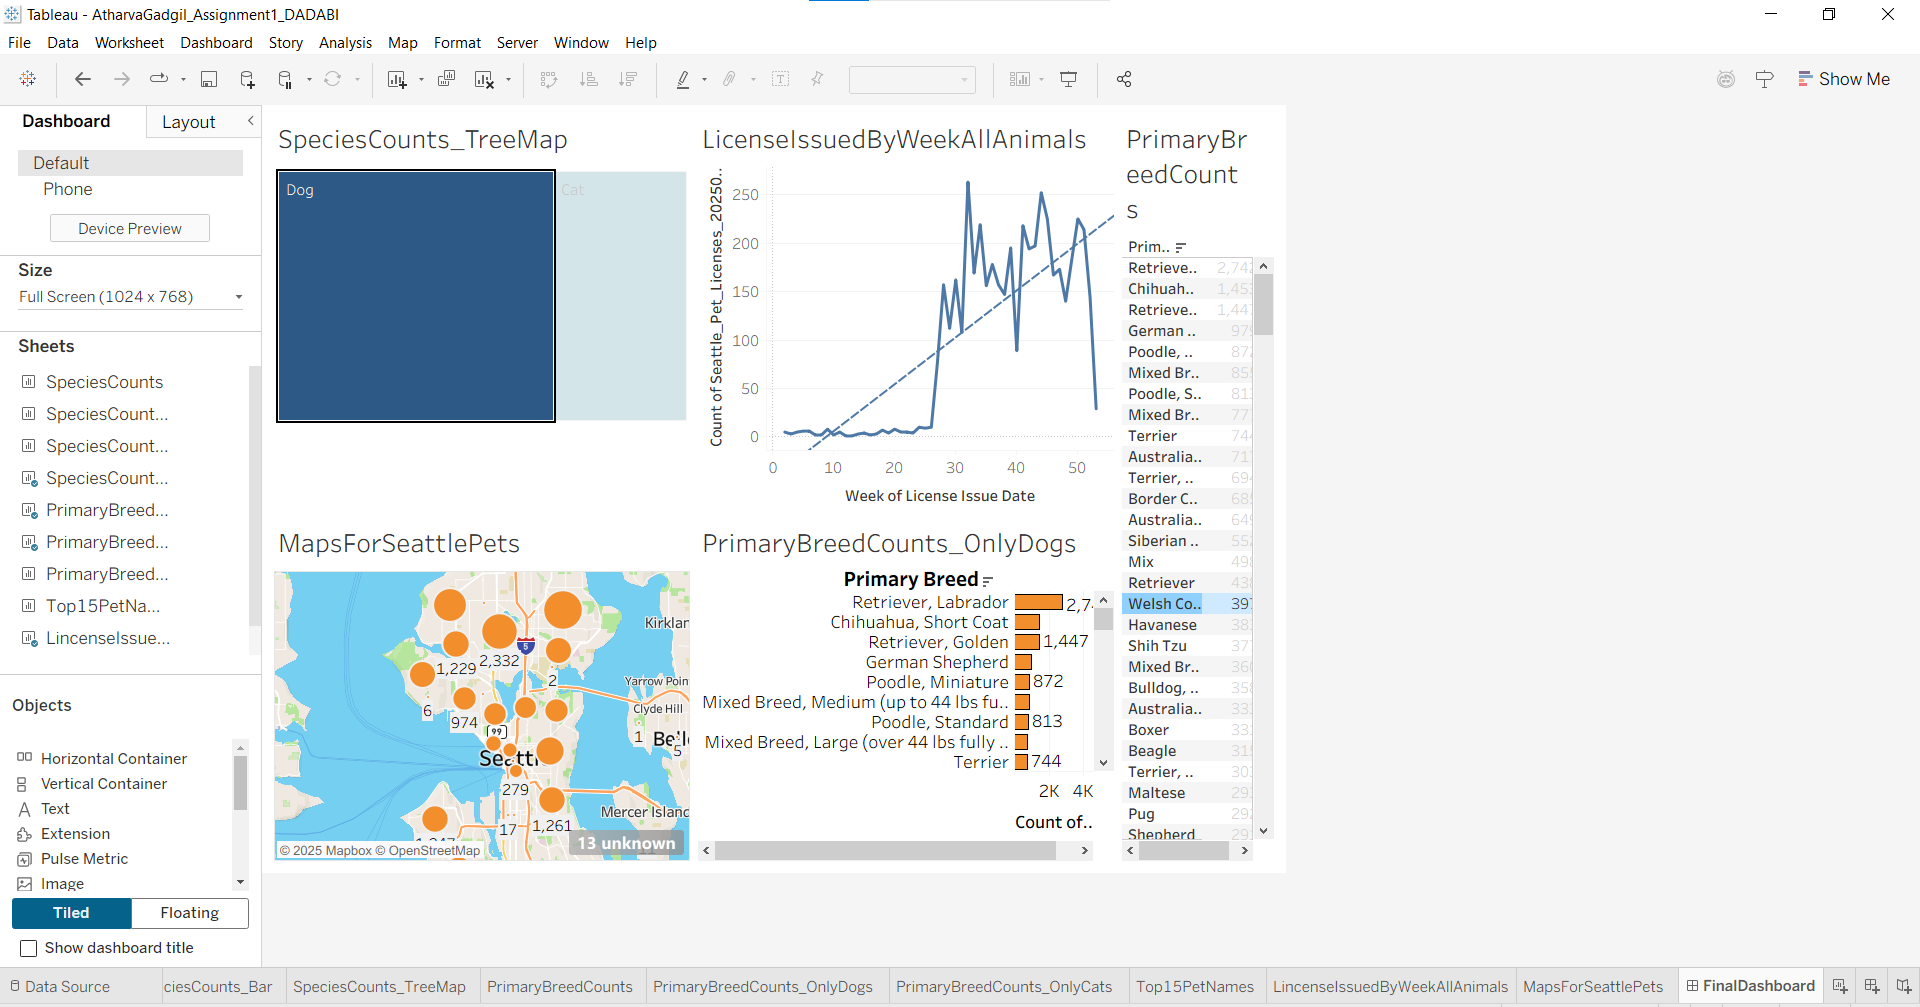

The dashboard page shown, as its layout file describes it:
{"tool":"tableau","page":{"name":"FinalDashboard","canvas":[1024,768],"ordinal":0},"visuals":[{"type":"worksheet","title":"SpeciesCounts_TreeMap","mark":"Automatic","box":[8,8,424,404.3]},{"type":"worksheet","title":"LincenseIssuedByWeekAllAnimals","mark":"Automatic","rows":["Seattle_Pet_Licenses_20250916.csv_1071B47A2D9C42BA9B7151C987"],"cols":["License Issue Date"],"box":[432,8,424,404.3]},{"type":"worksheet","title":"PrimaryBreedCounts","mark":"Automatic","rows":["Primary Breed"],"box":[856,8,160,752]},{"type":"worksheet","title":"MapsForSeattlePets","mark":"Automatic","box":[8,412.3,424,347.7]},{"type":"worksheet","title":"PrimaryBreedCounts_OnlyDogs","mark":"Automatic","rows":["Primary Breed"],"cols":["Seattle_Pet_Licenses_20250916.csv_1071B47A2D9C42BA9B7151C987"],"box":[432,412.3,424,347.7]}]}

Visuals, with their boxes on the page's 1024x768 design canvas (x1, y1, x2, y2). These are canvas units, not pixel positions in the 1920x1007 screenshot, which may show the page scaled, cropped or inside an application window:
"SpeciesCounts_TreeMap" worksheet: 8, 8, 432, 412
"LincenseIssuedByWeekAllAnimals" worksheet: 432, 8, 856, 412
"PrimaryBreedCounts" worksheet: 856, 8, 1016, 760
"MapsForSeattlePets" worksheet: 8, 412, 432, 760
"PrimaryBreedCounts_OnlyDogs" worksheet: 432, 412, 856, 760
